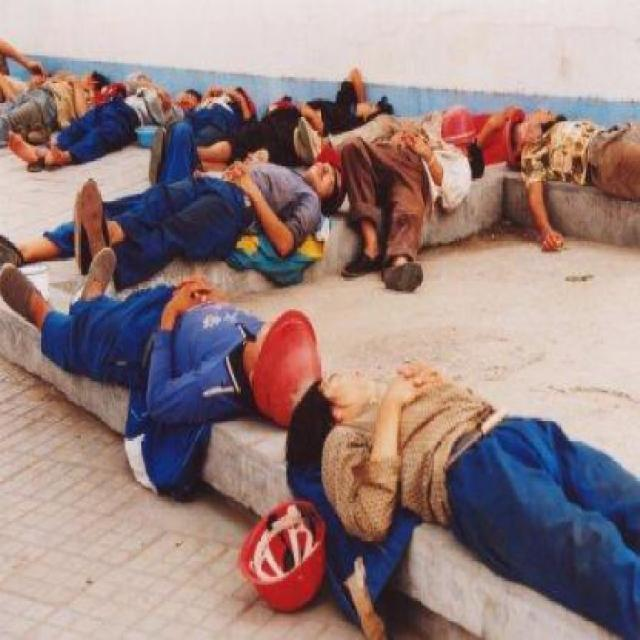fall: (1, 48, 104, 164)
